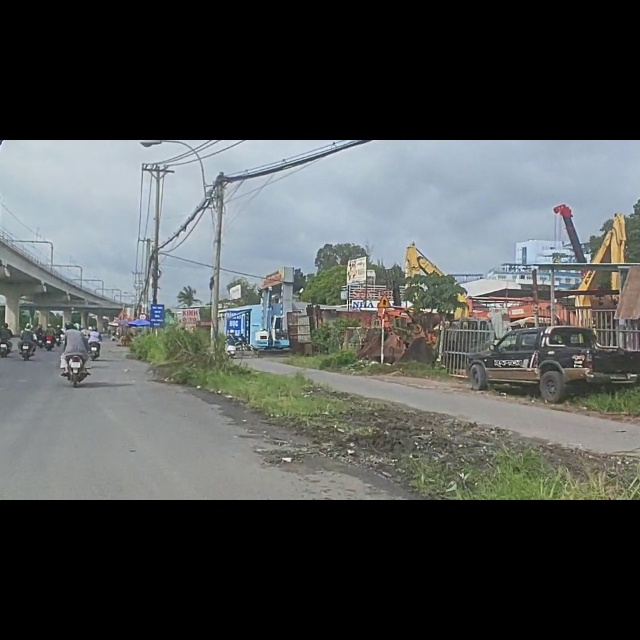bien_nguy_hiem: (376, 273, 395, 299)
